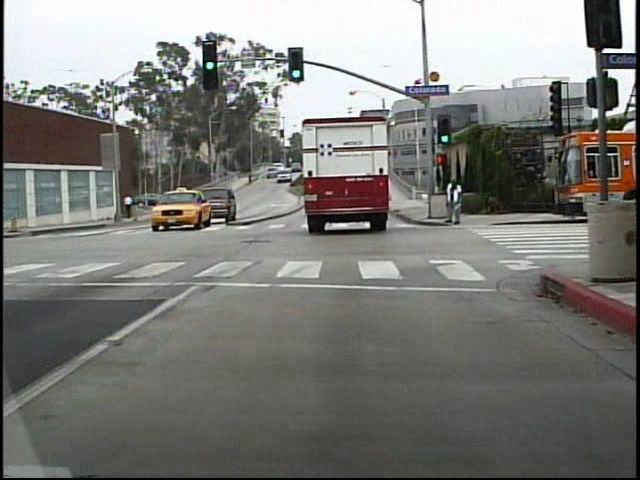person: (441, 174, 466, 228), (122, 188, 139, 220)
